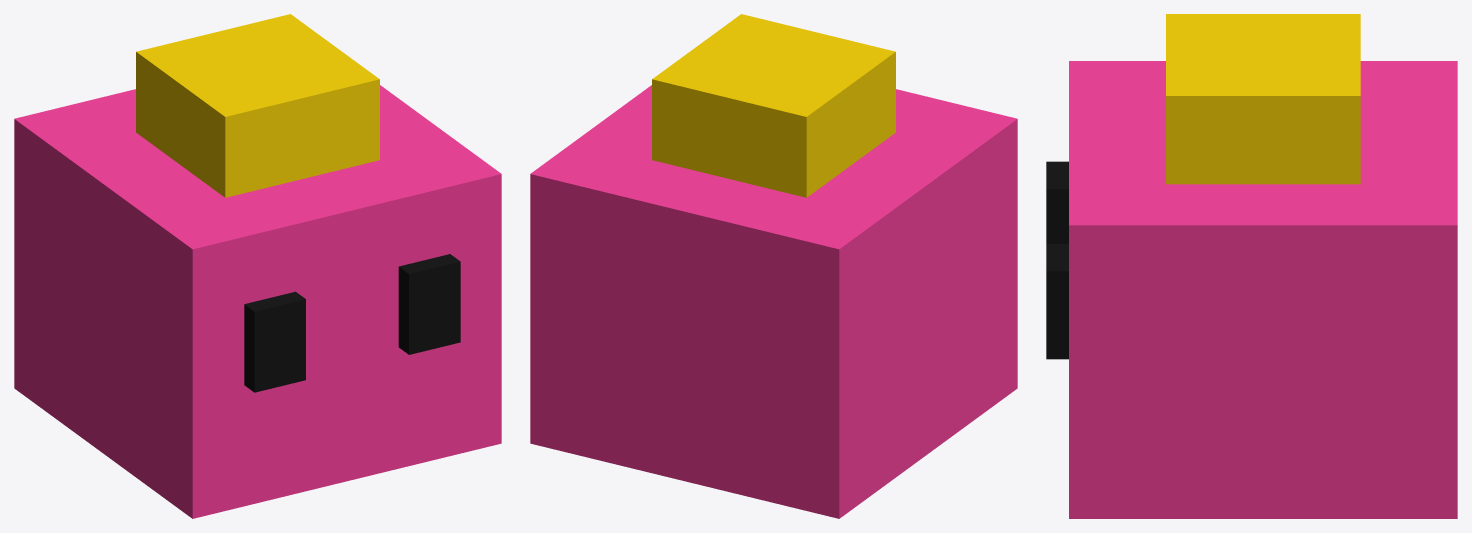
File: monster_jelly_slime.glb
3 renders of one model, left to right at view 1: azimuth 30°, elevation 25°; view 2: azimuth 150°, elevation 25°; view 3: azimuth 270°, elevation 25°, orthographic. The views are drawn at different scales.
Parts seen in each view (by area): view 1: body; view 2: body; view 3: body.
Part boxes in pixels (x1,y1,x2,y2): body: (14, 14, 501, 518); body: (530, 14, 1017, 518); body: (1046, 14, 1457, 518).
Bounding box in the file's own units: 12 × 13 × 12.7.
